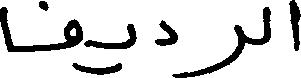X: (0, 0, 81, 76), (191, 20, 243, 77), (157, 15, 175, 77), (288, 0, 300, 55), (263, 2, 271, 48), (126, 19, 135, 53)
